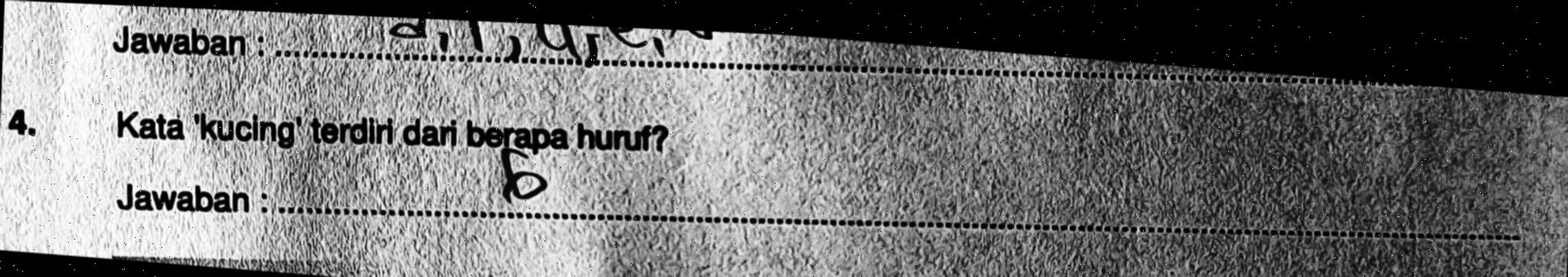jawaban: (492, 146, 557, 206)
